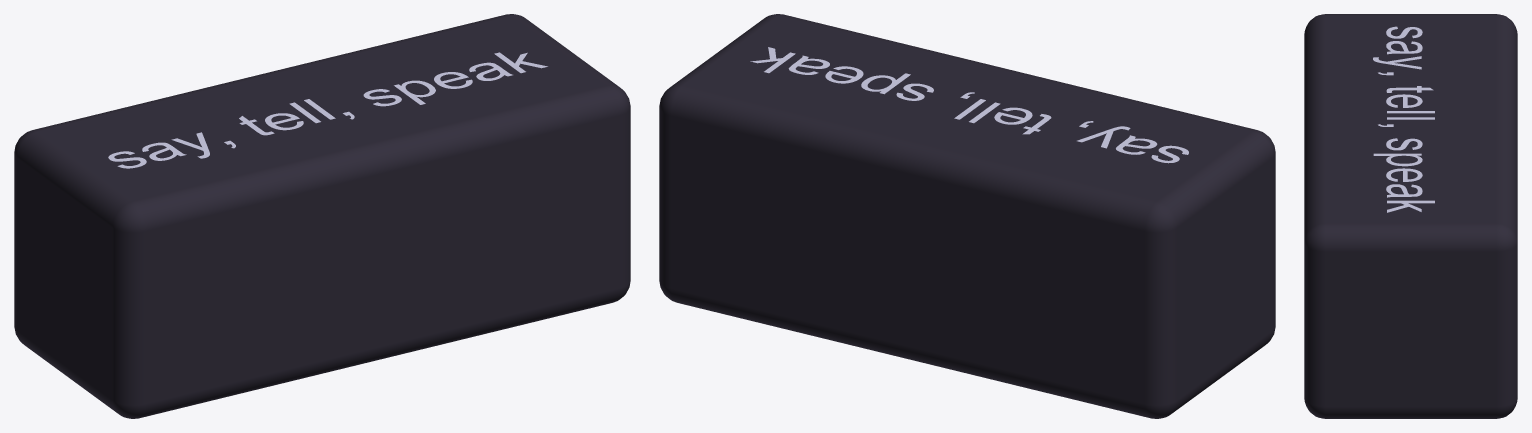
File: say.glb
The picture shows the model from 3 angles, left to right: view 1: azimuth 30°, elevation 25°; view 2: azimuth 150°, elevation 25°; view 3: azimuth 270°, elevation 25°; orthographic projection. The views are drawn at different scales.
Parts seen in each view (by area): view 1: Cut, Extrude; view 2: Cut, Extrude; view 3: Cut, Extrude.
Boxes of the visible parts, bbox=[...] form: Cut: bbox=[14, 14, 630, 418]; Extrude: bbox=[108, 52, 547, 168]; Cut: bbox=[659, 14, 1275, 418]; Extrude: bbox=[750, 47, 1188, 163]; Cut: bbox=[1304, 14, 1517, 418]; Extrude: bbox=[1373, 26, 1434, 212].
Size of the model in its own units: 5 by 2 by 2.
